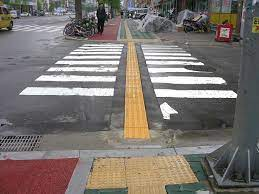guide_blocks: (87, 157, 198, 186), (123, 100, 148, 139), (126, 57, 142, 101), (128, 187, 165, 194), (127, 42, 136, 57), (124, 23, 131, 39)
